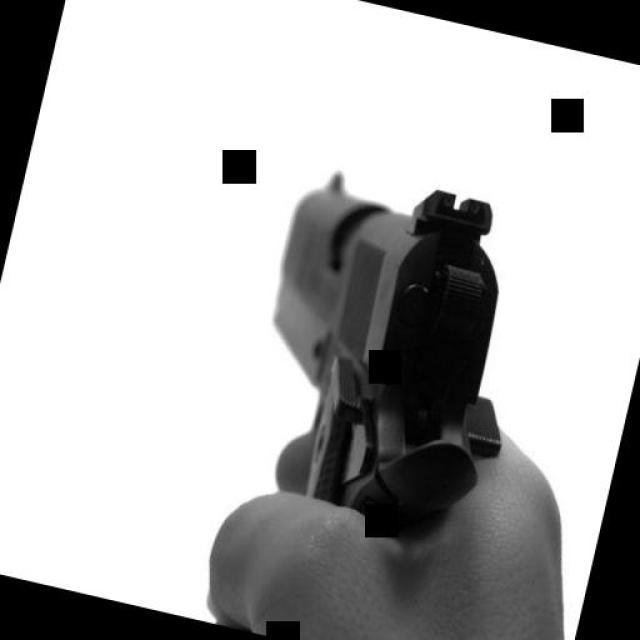gun: (214, 158, 555, 568)
